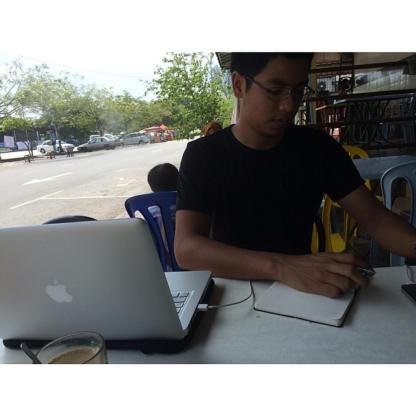board: (0, 218, 212, 338)
